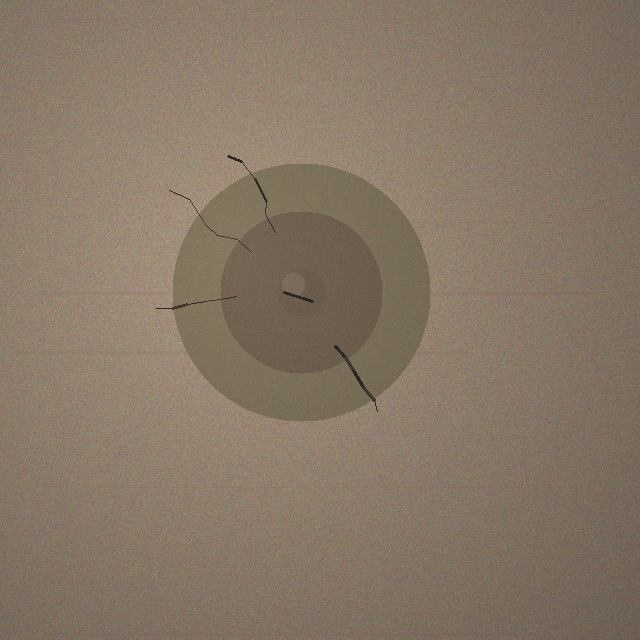crack: (172, 163, 430, 421)
